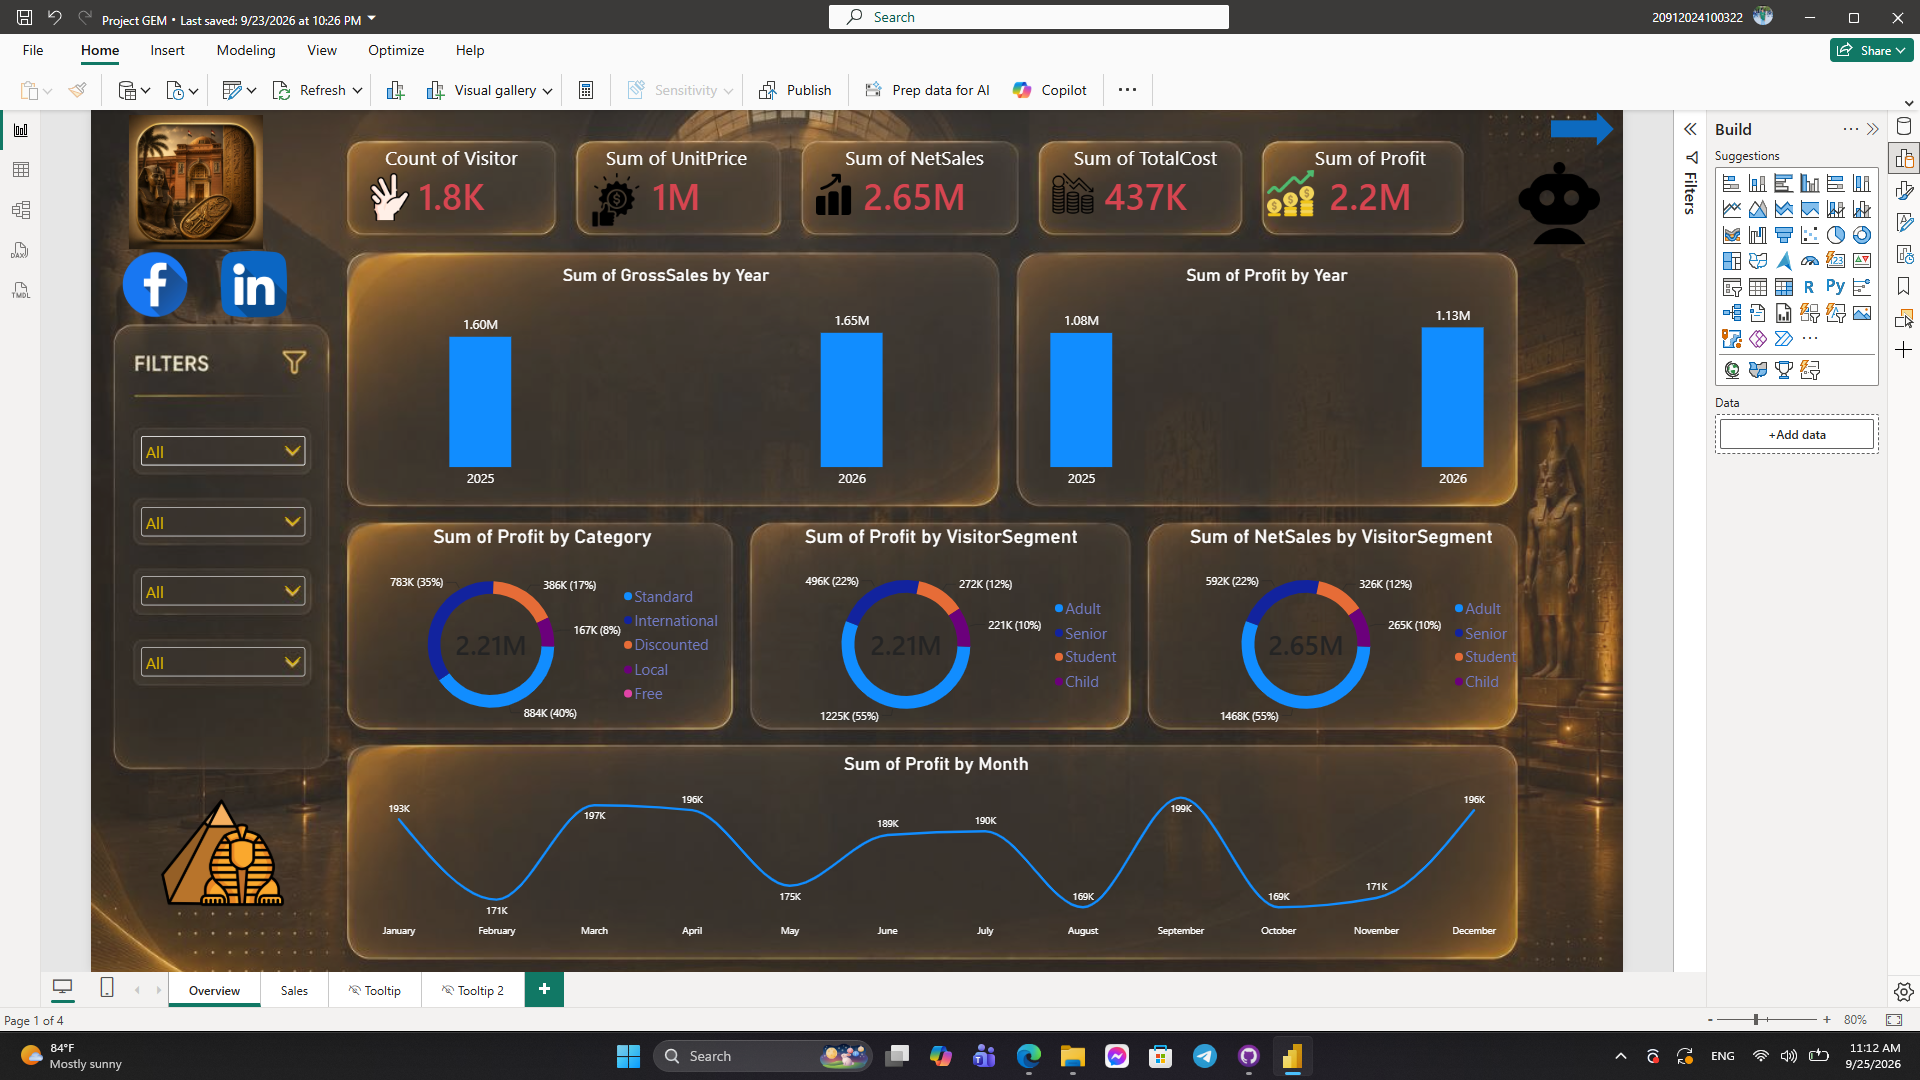

The page's visual inventory and layout, read from the dashboard file:
{"tool":"powerbi","page":{"name":"Overview","canvas":[1920,1080],"ordinal":0},"visuals":[{"type":"cardVisual","fields":{"Data":["CountNonNull(DimVisitor.VisitorKey)"]},"box":[320.5,23.9,262,133],"z":0},{"type":"cardVisual","fields":{"Data":["Sum(FactSales.Profit)"]},"box":[1472.4,23.9,262,133],"z":1000},{"type":"cardVisual","fields":{"Data":["Sum(FactSales.TotalCost)"]},"box":[1190.4,23.9,262,133],"z":2000},{"type":"cardVisual","fields":{"Data":["Sum(FactSales.NetSales)"]},"box":[900.4,23.9,262,133],"z":3000},{"type":"cardVisual","fields":{"Data":["Sum(FactSales.UnitPrice)"]},"box":[602.5,23.9,262,133],"z":4000},{"type":"slicer","fields":{"Values":["DimVisitor.Country"]},"box":[57.4,403.7,216.2,68],"z":5000},{"type":"slicer","fields":{"Values":["DimVisitor.Gender"]},"box":[57.4,492.9,216.2,68],"z":6000},{"type":"slicer","fields":{"Values":["DimTicket.Category"]},"box":[57.4,579,216.2,68],"z":7000},{"type":"slicer","fields":{"Values":["DimDate.Date.Variation.Date Hierarchy.Year"]},"box":[57.4,668.2,216.2,68],"z":8000},{"type":"columnChart","fields":{"Category":["DimDate.Date.Variation.Date Hierarchy.Year","DimDate.Date.Variation.Date Hierarchy.Quarter","DimDate.Date.Variation.Date Hierarchy.Month","DimDate.Date.Variation.Date Hierarchy.Day"],"Y":["Sum(FactSales.Profit)"]},"box":[1162.6,179.9,621.4,312.9],"z":9000},{"type":"columnChart","fields":{"Category":["DimDate.Date.Variation.Date Hierarchy.Year","DimDate.Date.Variation.Date Hierarchy.Quarter","DimDate.Date.Variation.Date Hierarchy.Month","DimDate.Date.Variation.Date Hierarchy.Day"],"Y":["Sum(FactSales.GrossSales)"]},"box":[409.7,179.9,621.4,312.9],"z":10000},{"type":"donutChart","fields":{"Category":["DimTicket.Category"],"Y":["Sum(FactSales.Profit)"]},"box":[320.5,506.5,489.8,285.7],"z":11000},{"type":"donutChart","fields":{"Category":["DimVisitor.VisitorSegment"],"Y":["Sum(FactSales.Profit)"]},"box":[820.9,506.5,489.8,285.7],"z":12000},{"type":"donutChart","fields":{"Category":["DimVisitor.VisitorSegment"],"Y":["Sum(FactSales.NetSales)"]},"box":[1321.3,506.5,489.8,285.7],"z":13000},{"type":"lineChart","fields":{"Category":["DimDate.Date.Variation.Date Hierarchy.Month"],"Y":["Sum(FactSales.Profit)"]},"box":[320.5,792.2,1477,266.1],"z":14000},{"type":"shape","box":[1829.3,3,78.6,42.3],"z":14001},{"type":"image","box":[57.4,848.1,216.2,170.8],"z":14002},{"type":"image","box":[18.1,6,228.3,167.8],"z":14003},{"type":"image","box":[1771.8,65,136.1,102.8],"z":14004},{"type":"image","box":[39.3,173.9,83.1,89.2],"z":14005},{"type":"image","box":[161.8,176.9,84.7,83.1],"z":14006},{"type":"image","box":[1189.8,78.6,80.1,51.4],"z":14007},{"type":"image","box":[1474,69.5,59,68],"z":14008},{"type":"image","box":[901,65,59,80.1],"z":14009},{"type":"image","box":[595.7,78.6,125.5,66.5],"z":14010},{"type":"image","box":[320.5,78.6,107.3,60.5],"z":14011}]}

Visuals, with their boxes on the page's 1920x1080 design canvas (x1, y1, x2, y2). These are canvas units, not pixel positions in the 1920x1080 screenshot, which may show the page scaled, cropped or inside an application window:
cardVisual - CountNonNull(DimVisitor.VisitorKey): x1=320 y1=24 x2=582 y2=157
cardVisual - Sum(FactSales.Profit): x1=1472 y1=24 x2=1734 y2=157
cardVisual - Sum(FactSales.TotalCost): x1=1190 y1=24 x2=1452 y2=157
cardVisual - Sum(FactSales.NetSales): x1=900 y1=24 x2=1162 y2=157
cardVisual - Sum(FactSales.UnitPrice): x1=602 y1=24 x2=864 y2=157
slicer - DimVisitor.Country: x1=57 y1=404 x2=274 y2=472
slicer - DimVisitor.Gender: x1=57 y1=493 x2=274 y2=561
slicer - DimTicket.Category: x1=57 y1=579 x2=274 y2=647
slicer - DimDate.Date.Variation.Date Hierarchy.Year: x1=57 y1=668 x2=274 y2=736
columnChart - DimDate.Date.Variation.Date Hierarchy.Year x DimDate.Date.Variation.Date Hierarchy.Quarter: x1=1163 y1=180 x2=1784 y2=493
columnChart - DimDate.Date.Variation.Date Hierarchy.Year x DimDate.Date.Variation.Date Hierarchy.Quarter: x1=410 y1=180 x2=1031 y2=493
donutChart - DimTicket.Category x Sum(FactSales.Profit): x1=320 y1=506 x2=810 y2=792
donutChart - DimVisitor.VisitorSegment x Sum(FactSales.Profit): x1=821 y1=506 x2=1311 y2=792
donutChart - DimVisitor.VisitorSegment x Sum(FactSales.NetSales): x1=1321 y1=506 x2=1811 y2=792
lineChart - DimDate.Date.Variation.Date Hierarchy.Month x Sum(FactSales.Profit): x1=320 y1=792 x2=1798 y2=1058
shape: x1=1829 y1=3 x2=1908 y2=45
image: x1=57 y1=848 x2=274 y2=1019
image: x1=18 y1=6 x2=246 y2=174
image: x1=1772 y1=65 x2=1908 y2=168
image: x1=39 y1=174 x2=122 y2=263
image: x1=162 y1=177 x2=246 y2=260
image: x1=1190 y1=79 x2=1270 y2=130
image: x1=1474 y1=70 x2=1533 y2=138
image: x1=901 y1=65 x2=960 y2=145
image: x1=596 y1=79 x2=721 y2=145
image: x1=320 y1=79 x2=428 y2=139
